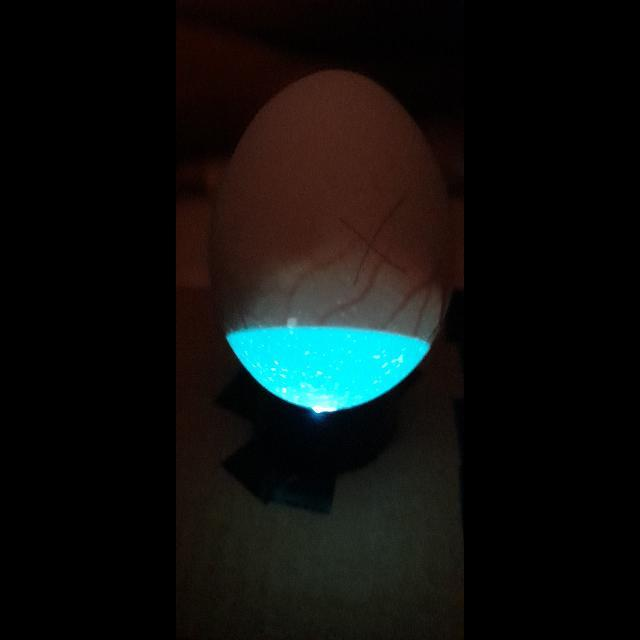Fertile: (217, 64, 455, 414)
